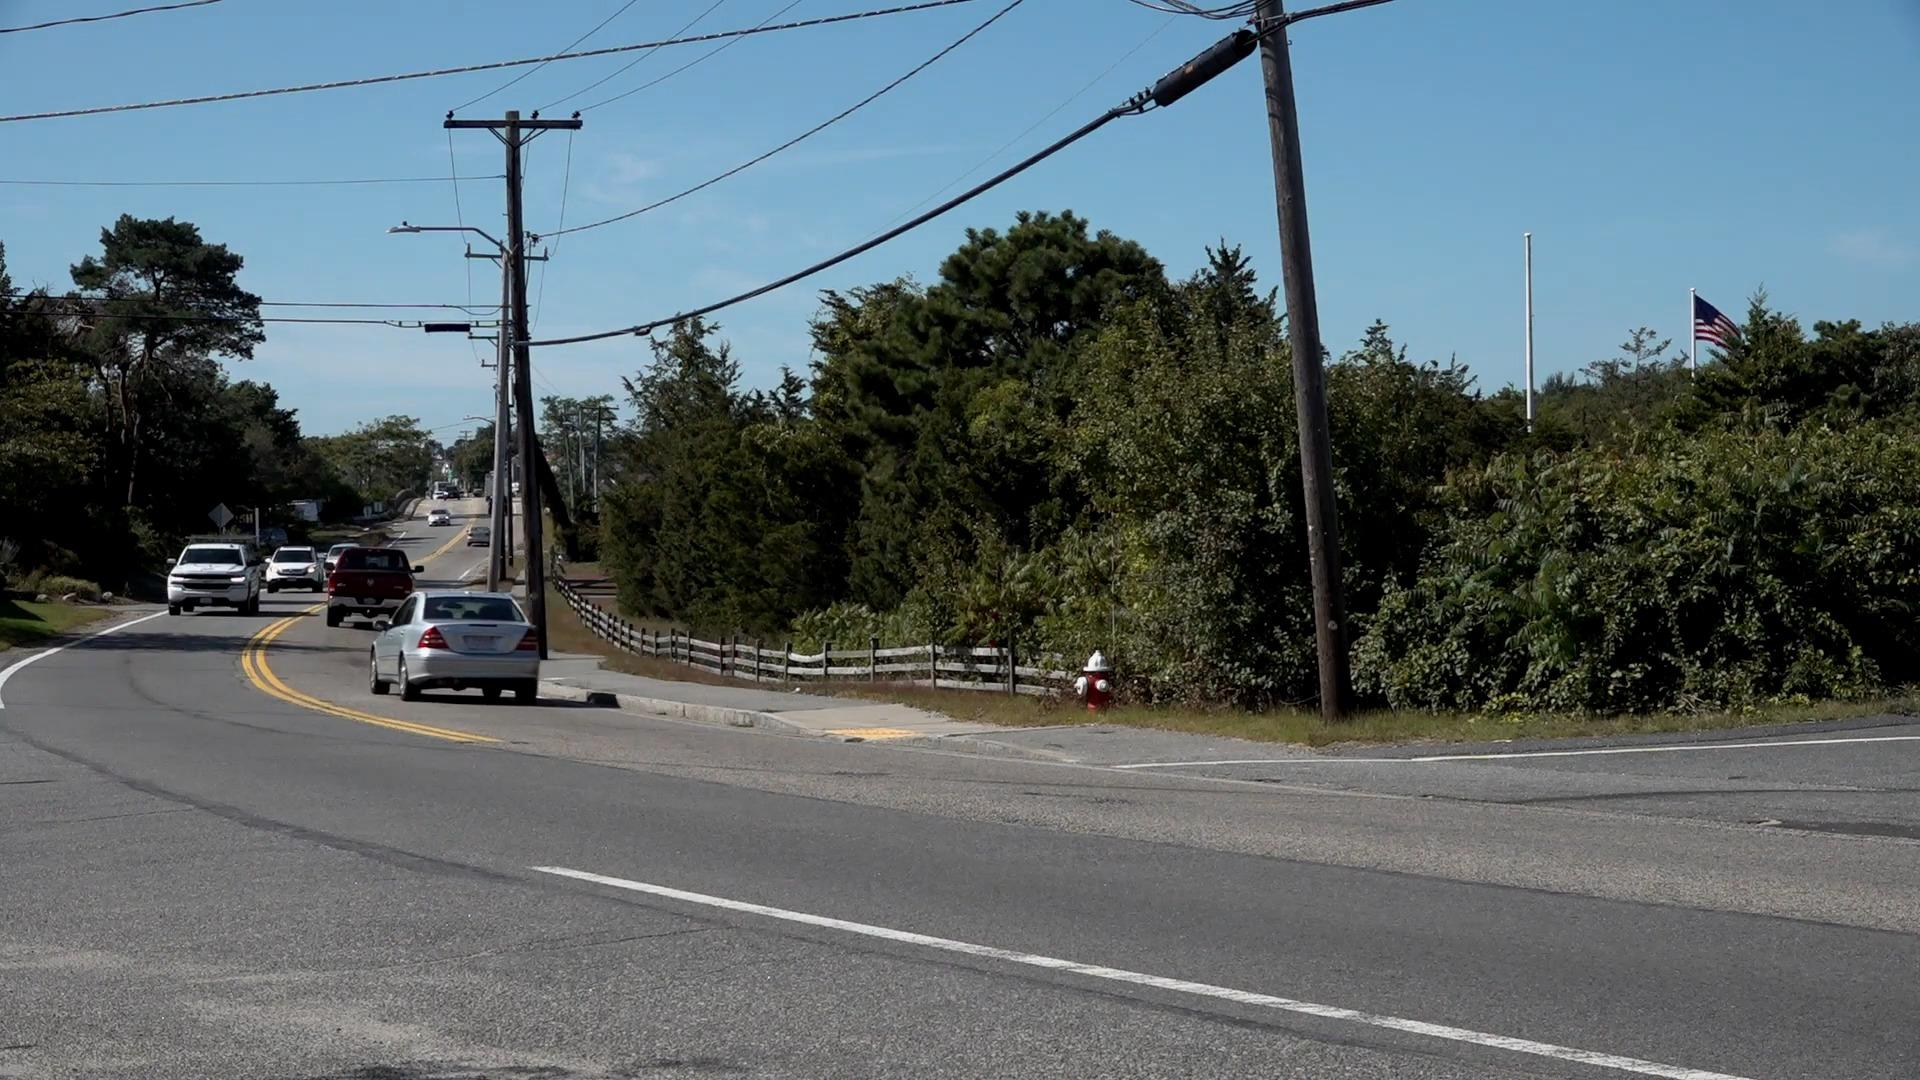pickup: (166, 541, 260, 617)
sedans: (369, 587, 542, 708)
suv: (265, 544, 321, 591)
